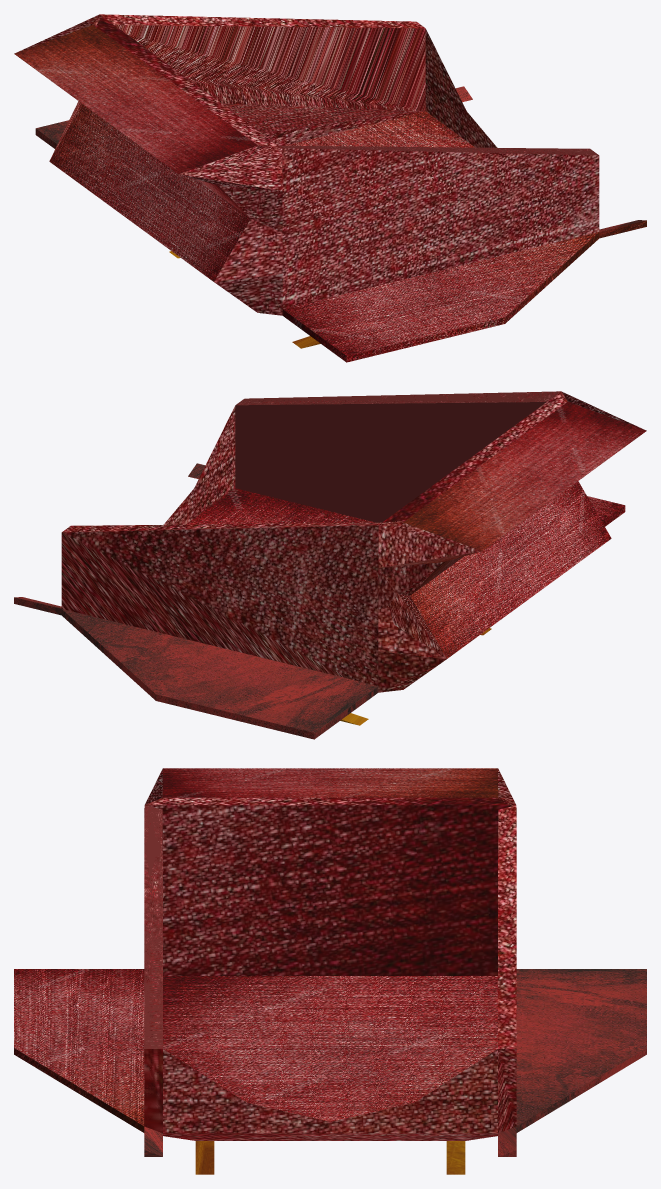
The model's file is trenoSemHelice.obj.
3 views of the same model, one above another, from view 1: azimuth 30°, elevation 25°; view 2: azimuth 150°, elevation 25°; view 3: azimuth 270°, elevation 25° (orthographic).
Parts seen in each view (by area): view 1: Cube; view 2: Cube; view 3: Cube.
Boxes of the visible parts, bbox=[...] form: Cube: bbox=[14, 14, 646, 362]; Cube: bbox=[14, 391, 646, 739]; Cube: bbox=[14, 768, 646, 1174].
Size of the model in its own units: 2.9 by 1.39 by 3.4.
